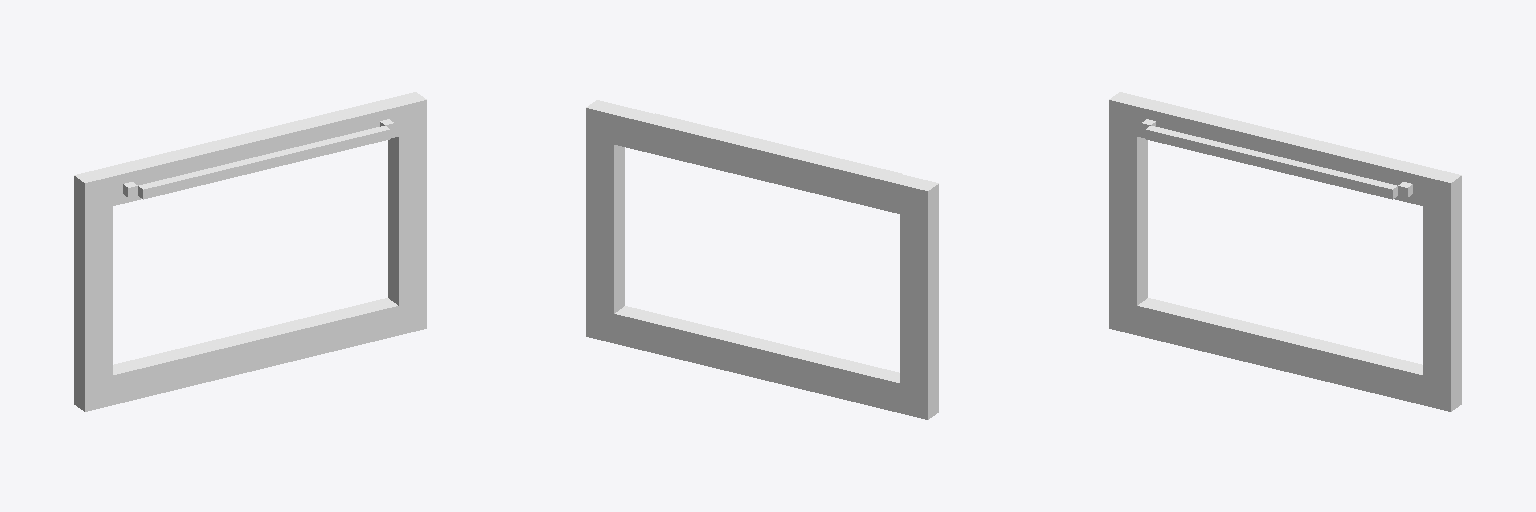
The model's file is furnaceDoor.obj.
3 views of the same model, side by side, from view 1: azimuth 30°, elevation 25°; view 2: azimuth 150°, elevation 25°; view 3: azimuth 330°, elevation 25° (orthographic).
Visible parts, largest first — view 1: furnaceDoor; view 2: furnaceDoor; view 3: furnaceDoor.
Boxes of the visible parts, box(x1,y1,x2,y2) form: furnaceDoor: box(74, 92, 426, 411); furnaceDoor: box(586, 100, 938, 419); furnaceDoor: box(1109, 92, 1461, 411).
Size of the model in its own units: 36 by 23 by 4.